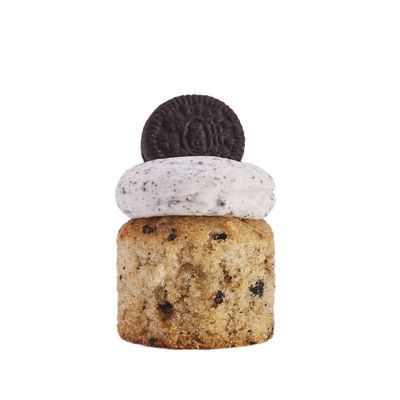pasta: (116, 156, 276, 220)
